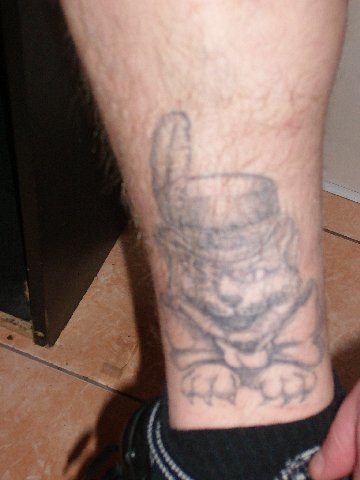tatu8_kot: (119, 102, 335, 398)
